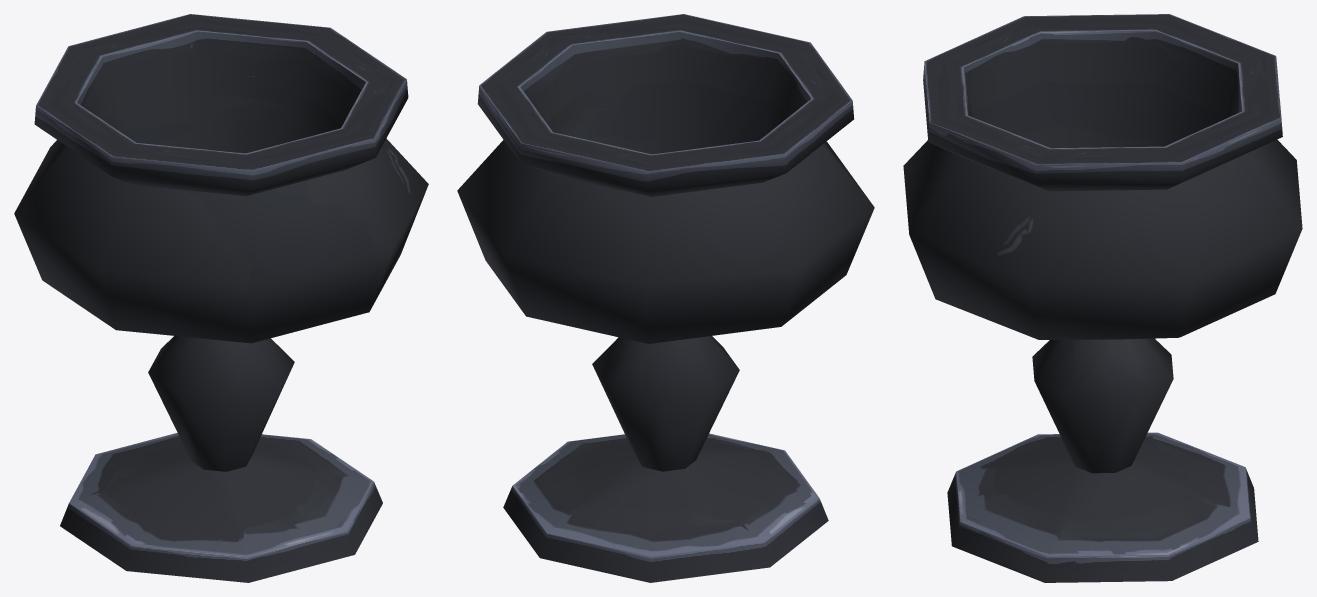
Rendered from SM_PROP_cup_dungeon_05.fbx.
3 views of the same model, side by side, from view 1: azimuth 30°, elevation 25°; view 2: azimuth 150°, elevation 25°; view 3: azimuth 270°, elevation 25° (orthographic).
Parts seen in each view (by area): view 1: SM_PROP_cup_dungeon_05; view 2: SM_PROP_cup_dungeon_05; view 3: SM_PROP_cup_dungeon_05.
Part boxes in pixels (bbox=[...]): SM_PROP_cup_dungeon_05: bbox=[14, 14, 428, 582]; SM_PROP_cup_dungeon_05: bbox=[457, 14, 874, 582]; SM_PROP_cup_dungeon_05: bbox=[903, 14, 1302, 582].
Size of the model in its own units: 20.98 by 24.81 by 20.98.
